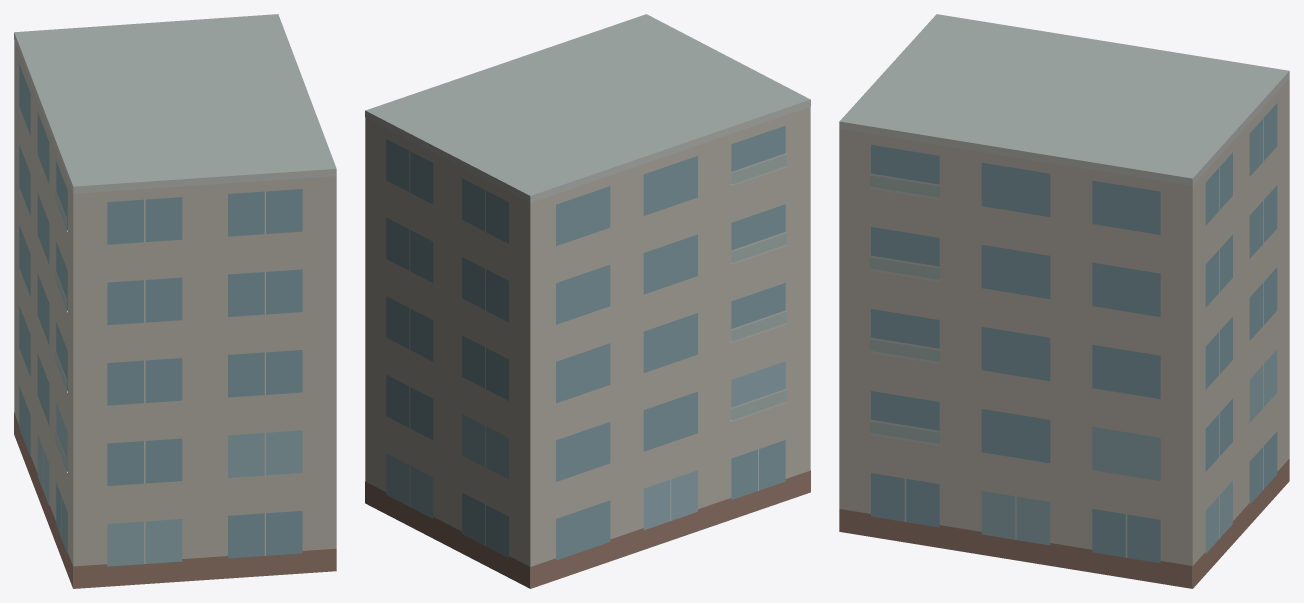
The model's file is survey-upis-32707442.glb.
The picture shows the model from 3 angles, left to right: view 1: azimuth 30°, elevation 25°; view 2: azimuth 150°, elevation 25°; view 3: azimuth 270°, elevation 25°; orthographic projection. The views are drawn at different scales.
Visible parts, largest first — view 1: survey-upis-32707442.tmp; view 2: survey-upis-32707442.tmp; view 3: survey-upis-32707442.tmp.
Boxes of the visible parts, x1,y1,x2,y2 form: survey-upis-32707442.tmp: (14,14,336,588); survey-upis-32707442.tmp: (365,14,810,588); survey-upis-32707442.tmp: (839,14,1289,588).
Size of the model in its own units: 11.79 by 13.7 by 13.63.
